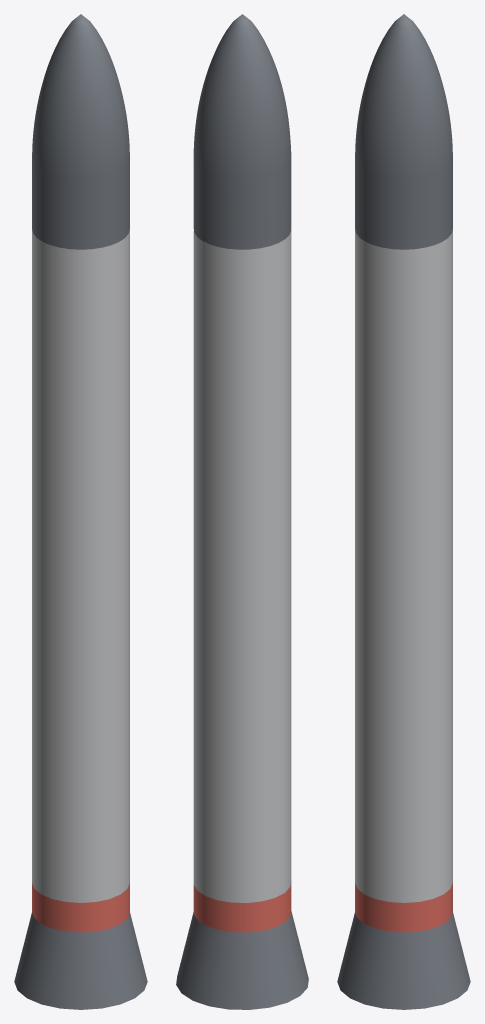
Rendered from longmarch5_core.glb.
The picture shows the model from 3 angles, left to right: view 1: azimuth 90°, elevation 25°; view 2: azimuth 150°, elevation 25°; view 3: azimuth 270°, elevation 25°; orthographic projection.
Visible parts, largest first — view 1: 芯级, 整流罩, 尾裙, 红色环带; view 2: 芯级, 整流罩, 尾裙, 红色环带; view 3: 芯级, 整流罩, 尾裙, 红色环带.
Boxes of the visible parts, bbox=[...] form: 芯级: bbox=[32, 229, 129, 902]; 整流罩: bbox=[32, 14, 129, 249]; 尾裙: bbox=[14, 912, 147, 1009]; 红色环带: bbox=[32, 883, 129, 932]; 芯级: bbox=[193, 231, 291, 902]; 整流罩: bbox=[193, 14, 291, 249]; 尾裙: bbox=[176, 910, 308, 1009]; 红色环带: bbox=[193, 880, 291, 932]; 芯级: bbox=[355, 229, 452, 902]; 整流罩: bbox=[355, 14, 452, 249]; 尾裙: bbox=[337, 912, 470, 1009]; 红色环带: bbox=[355, 883, 452, 932].
Bounding box in the file's own units: 4.5 × 36 × 4.5.
